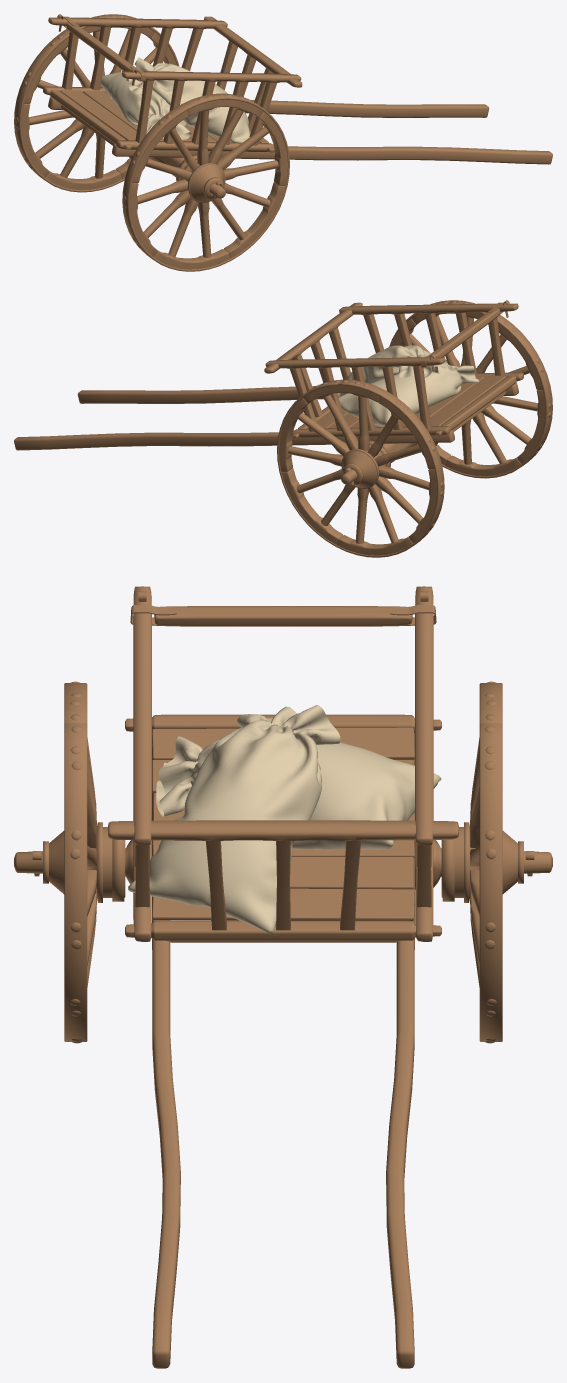
File: Cart.fbx
3 renders of one model, top to bottom at view 1: azimuth 30°, elevation 25°; view 2: azimuth 150°, elevation 25°; view 3: azimuth 270°, elevation 25°, orthographic. The views are drawn at different scales.
Visible parts, largest first — view 1: Body, Wheel_R, Wheel_L, Retopo_Bag; view 2: Body, Wheel_L, Wheel_R, Retopo_Bag; view 3: Body, Retopo_Bag, Wheel_L, Wheel_R.
Boxes of the visible parts, bbox=[...] form: Body: bbox=[43, 14, 552, 199]; Wheel_R: bbox=[122, 93, 289, 271]; Wheel_L: bbox=[14, 14, 179, 192]; Retopo_Bag: bbox=[100, 57, 250, 143]; Body: bbox=[14, 300, 523, 485]; Wheel_L: bbox=[277, 379, 444, 557]; Wheel_R: bbox=[389, 300, 552, 478]; Retopo_Bag: bbox=[337, 345, 478, 426]; Body: bbox=[14, 586, 552, 1368]; Retopo_Bag: bbox=[128, 705, 441, 933]; Wheel_L: bbox=[441, 681, 523, 1043]; Wheel_R: bbox=[43, 681, 125, 1043].
Bounding box in the file's own units: 331 × 141 × 179.
